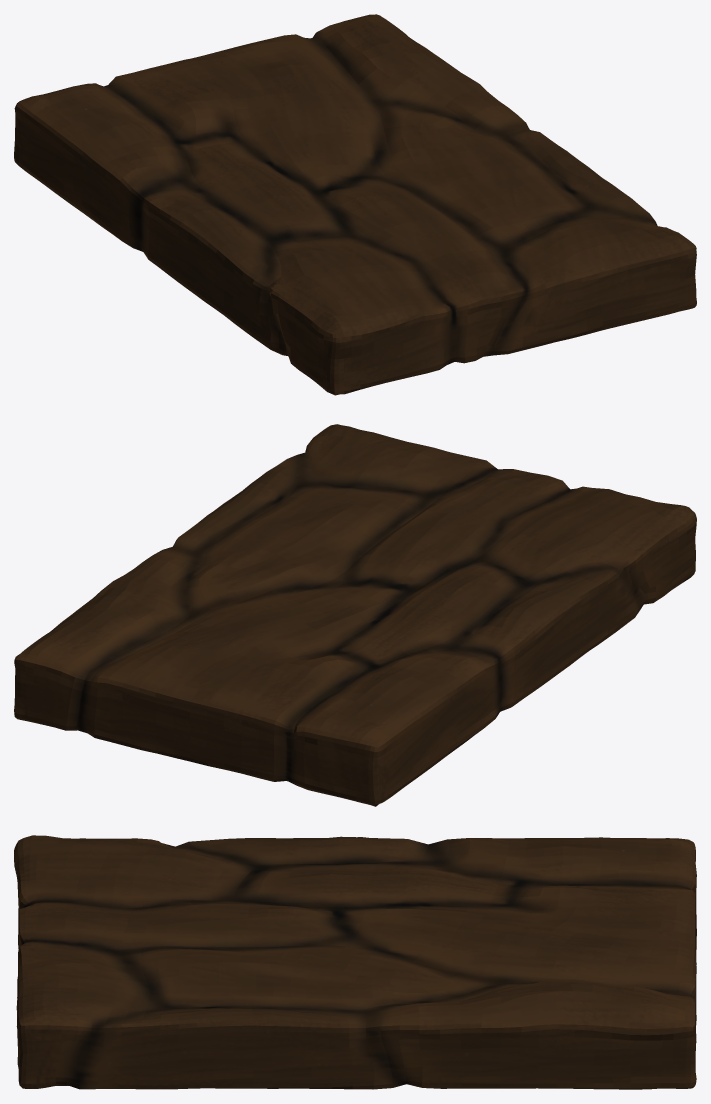
File: Medium_Platform.fbx
The picture shows the model from 3 angles, top to bottom: view 1: azimuth 30°, elevation 25°; view 2: azimuth 150°, elevation 25°; view 3: azimuth 270°, elevation 25°; orthographic projection. The views are drawn at different scales.
Visible parts, largest first — view 1: Medium_Platform:ZBrushPolyMesh3D; view 2: Medium_Platform:ZBrushPolyMesh3D; view 3: Medium_Platform:ZBrushPolyMesh3D.
Boxes of the visible parts, <box> form: Medium_Platform:ZBrushPolyMesh3D: <box>14,14,696,395</box>; Medium_Platform:ZBrushPolyMesh3D: <box>14,424,696,806</box>; Medium_Platform:ZBrushPolyMesh3D: <box>14,835,696,1089</box>.
Size of the model in its own units: 1.99 by 0.3959 by 3.
